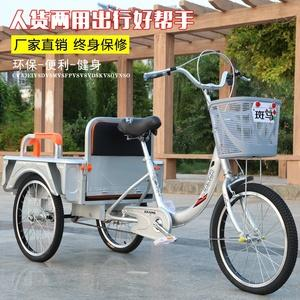empty: (8, 49, 292, 295)
